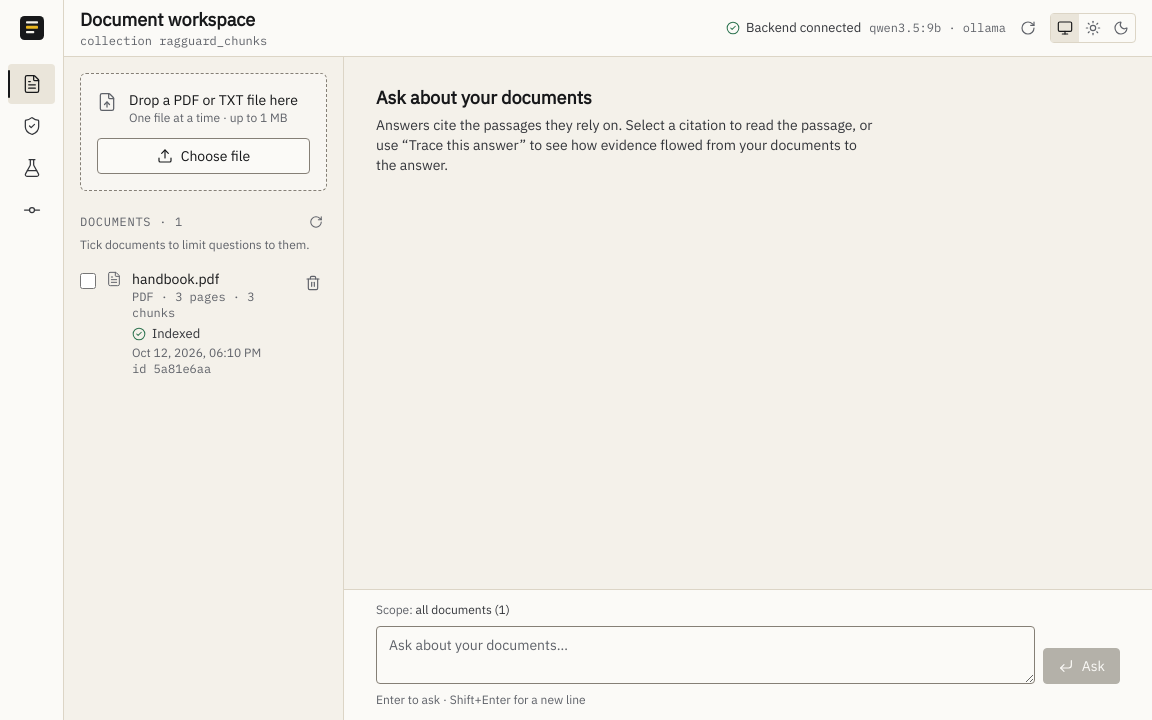
Test case: documents › keeps the document and shows the error when deletion fails
Click the button named "Remove handbook.pdf": (313, 283) [299,269,327,297]
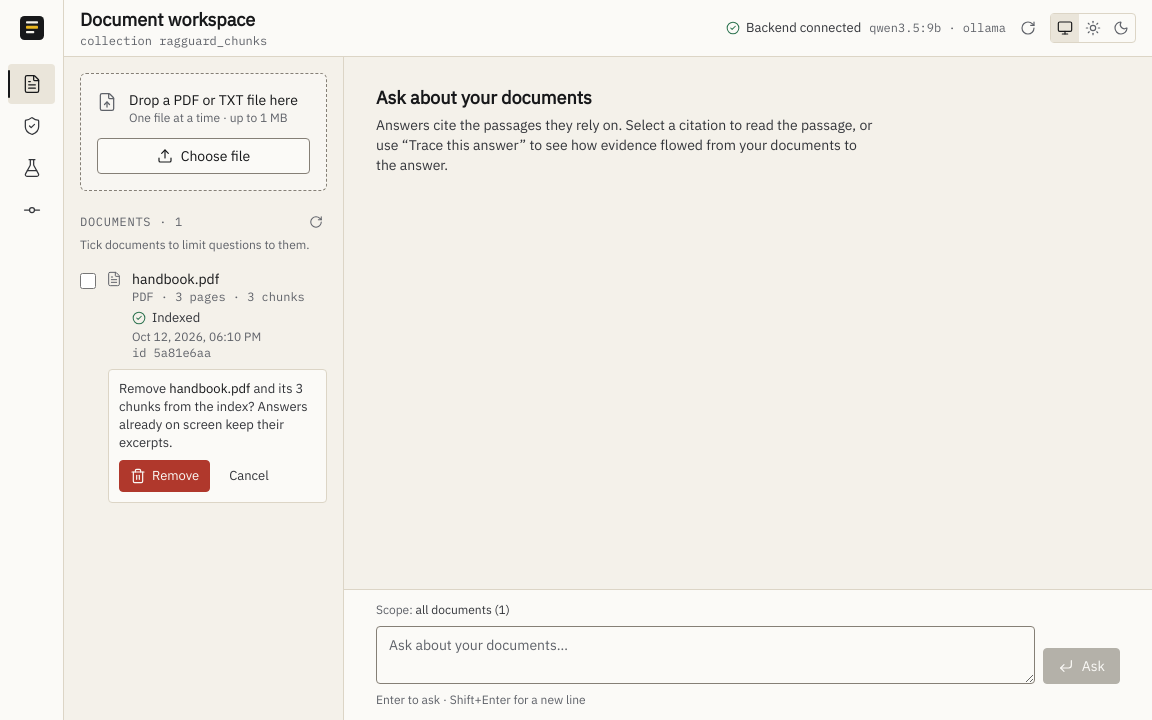
Click the button "Remove": (165, 476) [119,460,210,492]
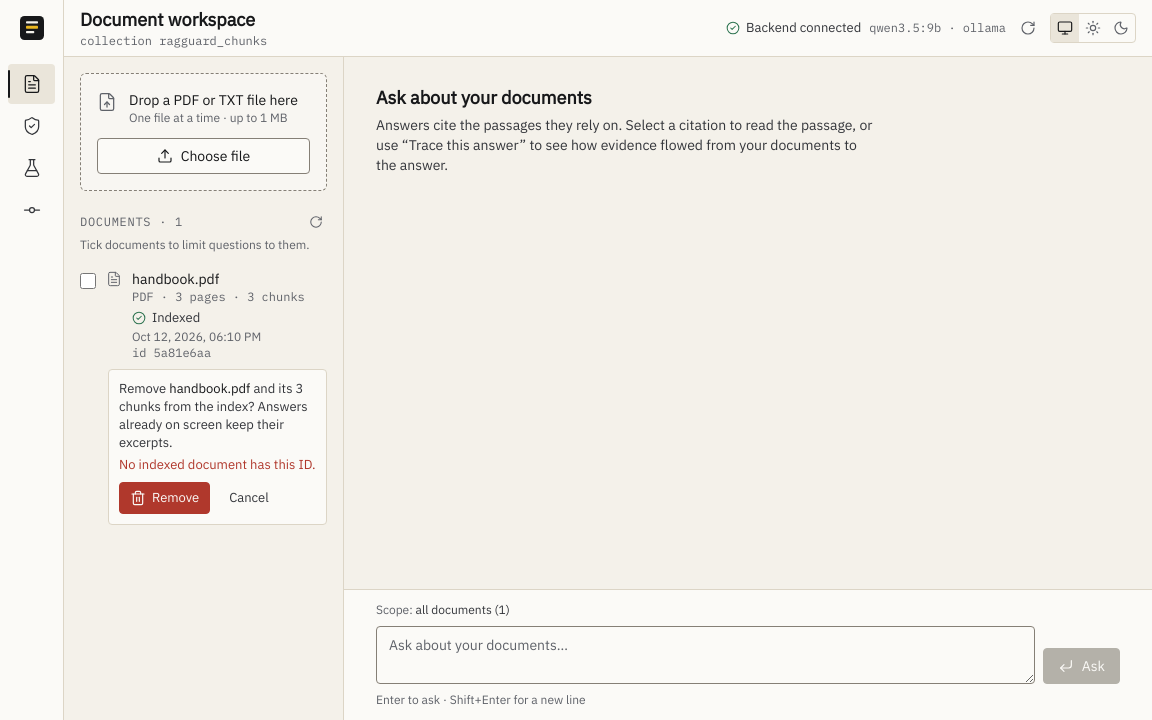
Expected: the list named "Indexed documents" shows "handbook.pdf", [132,270,219,288]
Expected: the text "No indexed document has this ID." is shown, [119,456,316,474]
